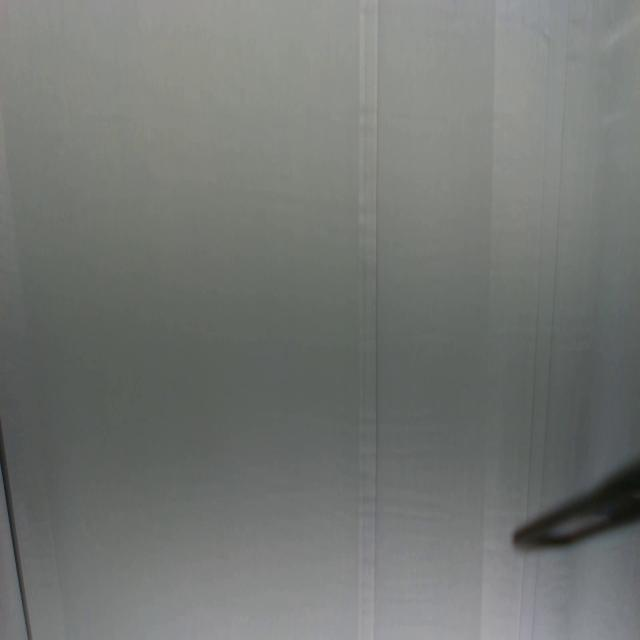crease: (526, 0, 573, 495), (355, 0, 381, 638), (0, 410, 34, 640), (514, 558, 540, 640)
